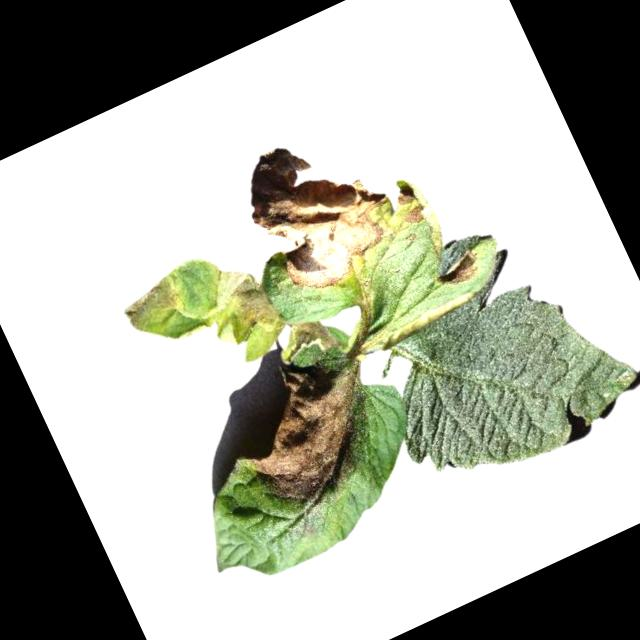Late_blight: (227, 113, 412, 306), (216, 338, 405, 525), (201, 259, 283, 347), (115, 272, 187, 336), (272, 308, 345, 371), (431, 247, 485, 292), (390, 181, 421, 209), (400, 203, 430, 230)
healthy: (359, 249, 640, 507)
